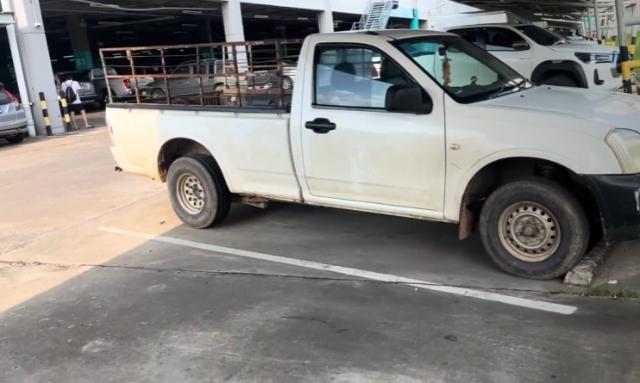pickup-truck: (93, 28, 640, 279)
